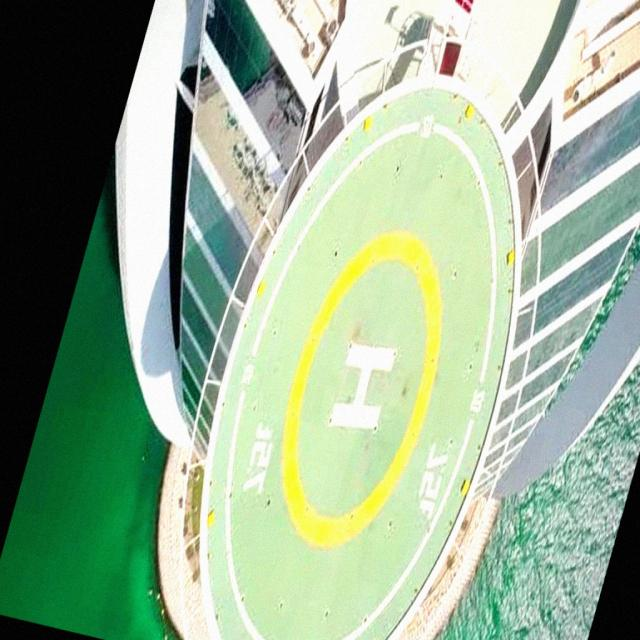helipad: (267, 228, 454, 549)
